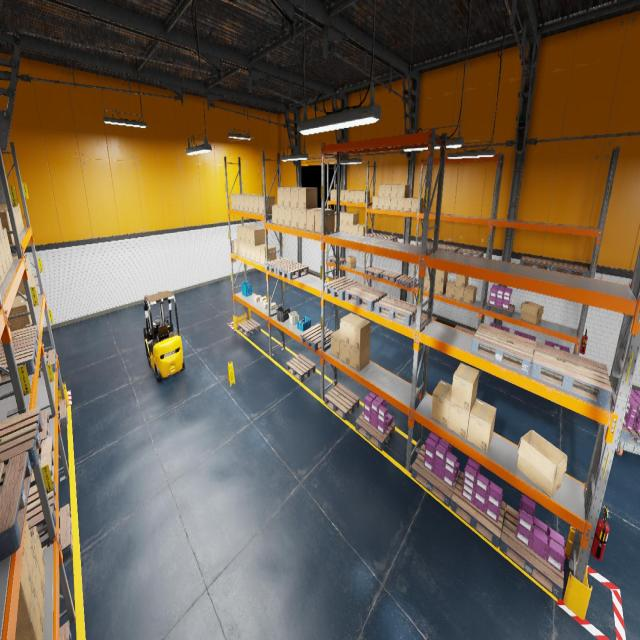box: (517, 430, 567, 497), (467, 398, 496, 453), (15, 584, 43, 639), (451, 362, 479, 413), (16, 548, 33, 630), (448, 399, 476, 439), (29, 526, 45, 589), (431, 380, 452, 428), (33, 553, 44, 622), (8, 300, 32, 331), (23, 519, 34, 582), (350, 317, 370, 350), (340, 312, 360, 344), (349, 342, 370, 372), (0, 203, 24, 228), (0, 205, 23, 231), (520, 301, 544, 325), (0, 205, 21, 232), (0, 207, 20, 234), (12, 255, 33, 280), (13, 257, 32, 284), (314, 208, 334, 233), (0, 210, 14, 244), (0, 231, 11, 270), (298, 187, 317, 209), (2, 228, 12, 265), (306, 208, 321, 231), (0, 234, 8, 276), (284, 186, 300, 206), (260, 245, 276, 265), (330, 328, 340, 359), (258, 196, 275, 214), (255, 244, 270, 263), (463, 284, 477, 304), (249, 228, 265, 245), (245, 226, 260, 244), (239, 194, 254, 211), (240, 225, 255, 242), (253, 196, 267, 213), (248, 195, 261, 213), (454, 284, 467, 302), (277, 187, 289, 206), (340, 340, 349, 365), (237, 224, 250, 241), (290, 187, 300, 208), (243, 195, 255, 212), (15, 278, 26, 296), (446, 280, 456, 299), (455, 274, 468, 288), (231, 194, 243, 209), (435, 280, 447, 295), (235, 194, 246, 210), (298, 209, 306, 230), (411, 198, 423, 212), (25, 261, 31, 287), (398, 185, 410, 198), (0, 253, 5, 282), (32, 274, 38, 298), (436, 270, 448, 282), (31, 286, 36, 314), (291, 208, 298, 228), (284, 207, 291, 226), (359, 190, 370, 202), (348, 212, 358, 225), (272, 204, 278, 224), (346, 256, 356, 268), (358, 224, 368, 236), (278, 206, 284, 225), (427, 278, 435, 292), (404, 198, 412, 212), (343, 212, 352, 224), (354, 190, 363, 202), (32, 282, 36, 308), (353, 224, 363, 234), (14, 294, 26, 302), (250, 245, 256, 261), (428, 268, 436, 280), (397, 198, 404, 211), (391, 185, 398, 198), (384, 184, 391, 197), (378, 184, 385, 197), (384, 197, 391, 210), (340, 212, 347, 224), (349, 190, 356, 202), (390, 198, 397, 210), (237, 240, 242, 256), (233, 238, 238, 254), (423, 274, 428, 290), (335, 212, 343, 222), (340, 190, 347, 201), (241, 242, 246, 257), (378, 197, 384, 209), (372, 196, 378, 208), (335, 190, 342, 200), (246, 243, 250, 259), (344, 190, 349, 202), (263, 296, 270, 303), (254, 295, 261, 302), (0, 218, 3, 234), (270, 302, 276, 310), (348, 224, 353, 233), (260, 296, 266, 303), (343, 224, 348, 232), (330, 190, 334, 200), (263, 302, 267, 309), (340, 223, 343, 232), (0, 274, 2, 286), (32, 278, 34, 286), (335, 222, 336, 231)
forklift: (143, 290, 184, 382)
pallets: (499, 505, 563, 600), (530, 342, 612, 407), (450, 472, 506, 548), (0, 451, 32, 561), (0, 407, 43, 485), (471, 323, 535, 374), (411, 444, 460, 506), (26, 476, 56, 537), (42, 504, 73, 562), (0, 341, 37, 385), (355, 412, 395, 450), (324, 383, 360, 420), (375, 296, 417, 326), (30, 437, 54, 488), (345, 284, 387, 311), (0, 325, 39, 352), (612, 411, 640, 445), (324, 276, 361, 301), (300, 323, 333, 351), (286, 354, 315, 382), (552, 261, 588, 277), (277, 262, 308, 280), (264, 258, 295, 274), (39, 349, 56, 378), (486, 300, 514, 317), (520, 256, 552, 270), (39, 411, 49, 453), (238, 318, 260, 336), (58, 399, 68, 427), (396, 274, 416, 288), (380, 270, 401, 282), (458, 248, 483, 257), (365, 267, 385, 278), (454, 325, 476, 335), (60, 622, 71, 640), (438, 244, 460, 253), (378, 234, 398, 242), (418, 241, 440, 248), (329, 256, 346, 265), (422, 312, 436, 321), (366, 233, 384, 238), (533, 352, 534, 357)
